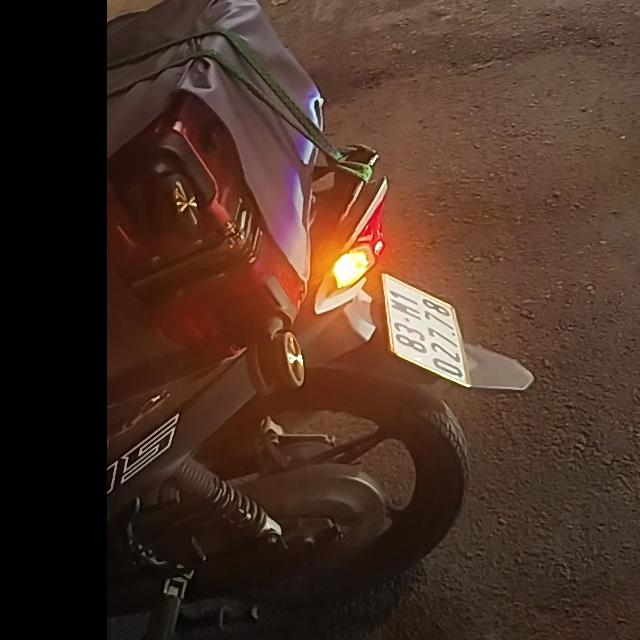license-plate: (383, 274, 469, 386)
